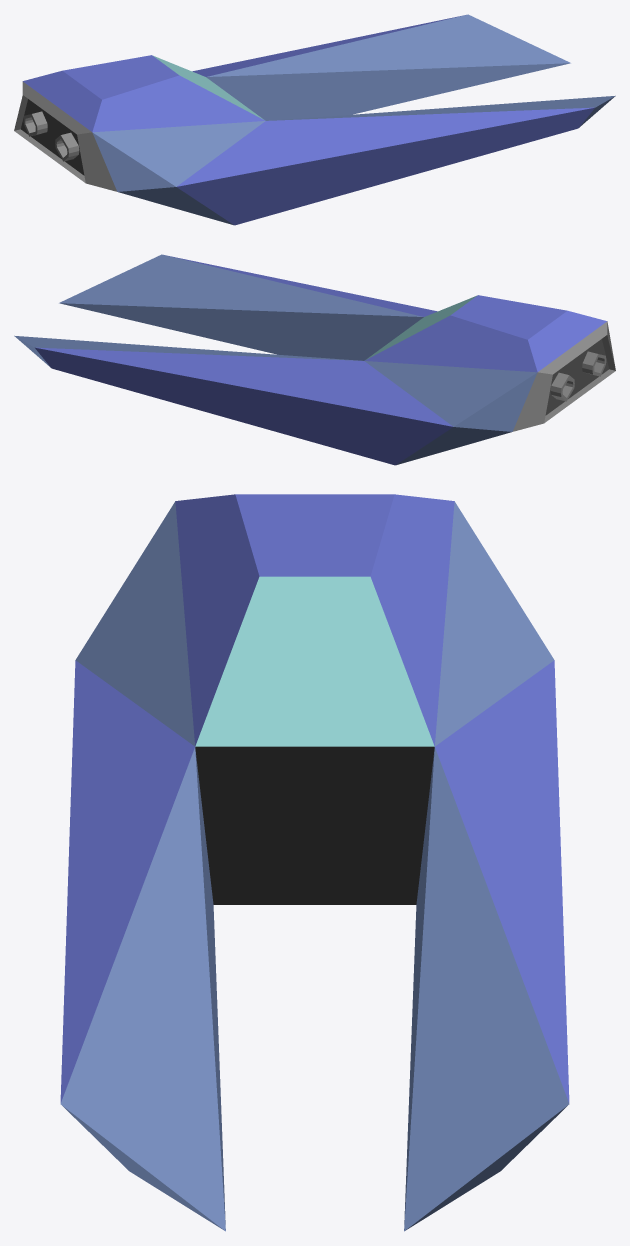
Rendered from ship6.fbx.
The picture shows the model from 3 angles, top to bottom: view 1: azimuth 30°, elevation 25°; view 2: azimuth 150°, elevation 25°; view 3: azimuth 270°, elevation 25°; orthographic projection. The views are drawn at different scales.
Parts seen in each view (by area): view 1: Cube; view 2: Cube; view 3: Cube.
Part boxes in pixels (left/top/right/bottom): Cube: left=14, top=14, right=615, bottom=225; Cube: left=14, top=254, right=615, bottom=465; Cube: left=60, top=494, right=569, bottom=1231.
Bounding box in the file's own units: 747 × 155 × 301.
